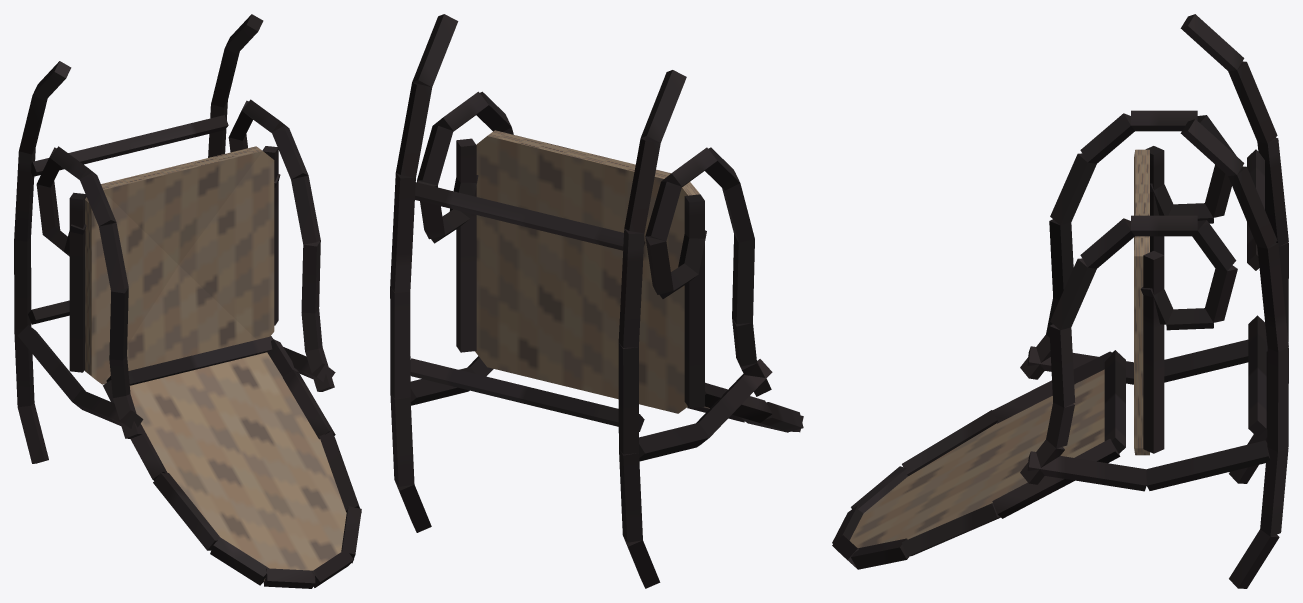
The model's file is pz_chair_seating_indoor_03_rocking_2_fidelity_r1.obj.
The picture shows the model from 3 angles, left to right: view 1: azimuth 30°, elevation 25°; view 2: azimuth 150°, elevation 25°; view 3: azimuth 270°, elevation 25°; orthographic projection. The views are drawn at different scales.
Visible parts, largest first — view 1: wood, seat, cane; view 2: wood, seat; view 3: wood, cane, seat.
Boxes of the visible parts, x1=… form: wood: x1=14, y1=14, x2=361, y2=588; seat: x1=84, y1=146, x2=274, y2=384; cane: x1=130, y1=352, x2=346, y2=581; wood: x1=390, y1=14, x2=803, y2=588; seat: x1=475, y1=130, x2=699, y2=413; wood: x1=832, y1=14, x2=1288, y2=588; cane: x1=849, y1=369, x2=1104, y2=548; seat: x1=1134, y1=149, x2=1149, y2=455.
Size of the model in its own units: 0.6406 by 1.26 by 1.07.
Materials: 1 (1 with a texture image).
